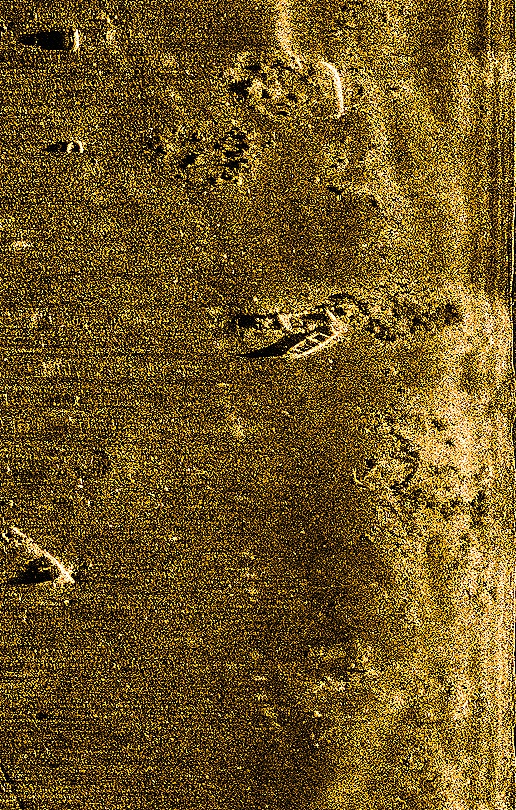ship: (267, 322, 341, 365)
